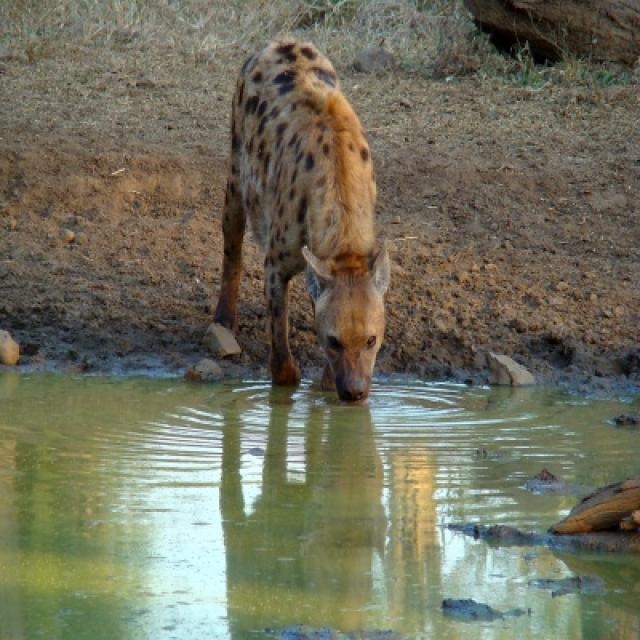hyena: (206, 38, 392, 405)
